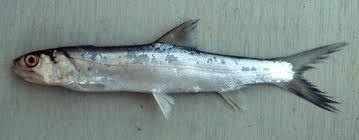Tenpounder: (13, 18, 352, 119)
